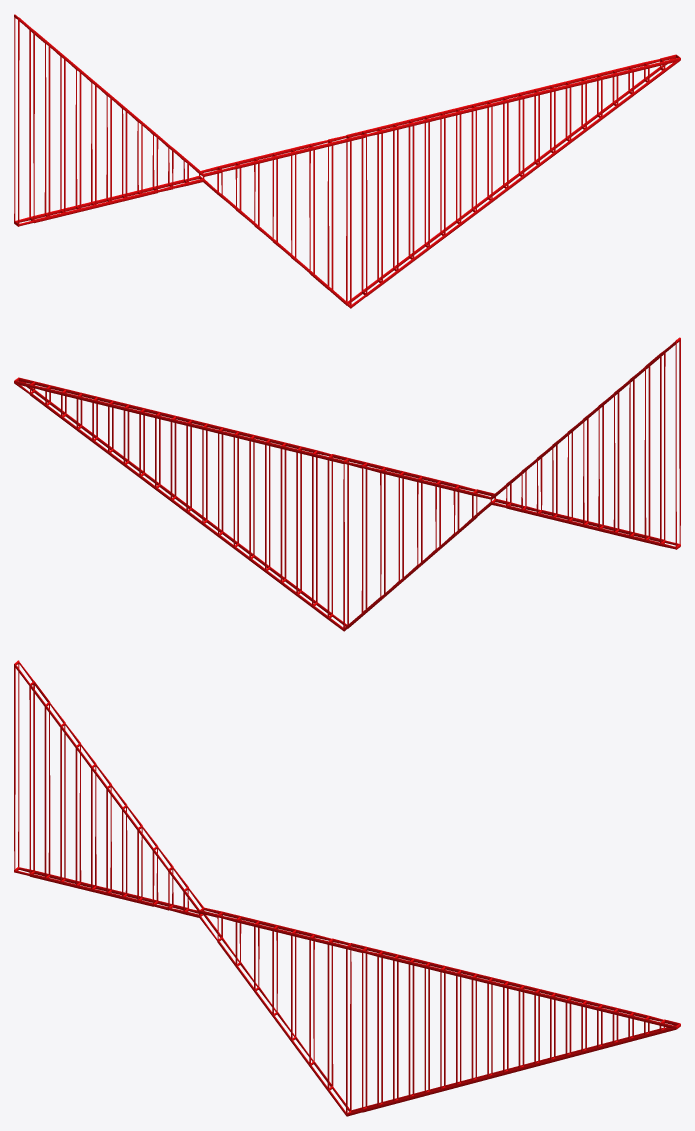
File: bmd4.fbx
The picture shows the model from 3 angles, top to bottom: view 1: azimuth 30°, elevation 25°; view 2: azimuth 150°, elevation 25°; view 3: azimuth 330°, elevation 25°; orthographic projection.
Parts seen in each view (by area): view 1: Cube; view 2: Cube; view 3: Cube.
Part boxes in pixels (x1,y1,x2,y2): Cube: [14, 14, 680, 308]; Cube: [14, 337, 680, 631]; Cube: [14, 660, 680, 1116].
Size of the model in its own units: 60.11 by 32.29 by 0.7119.
